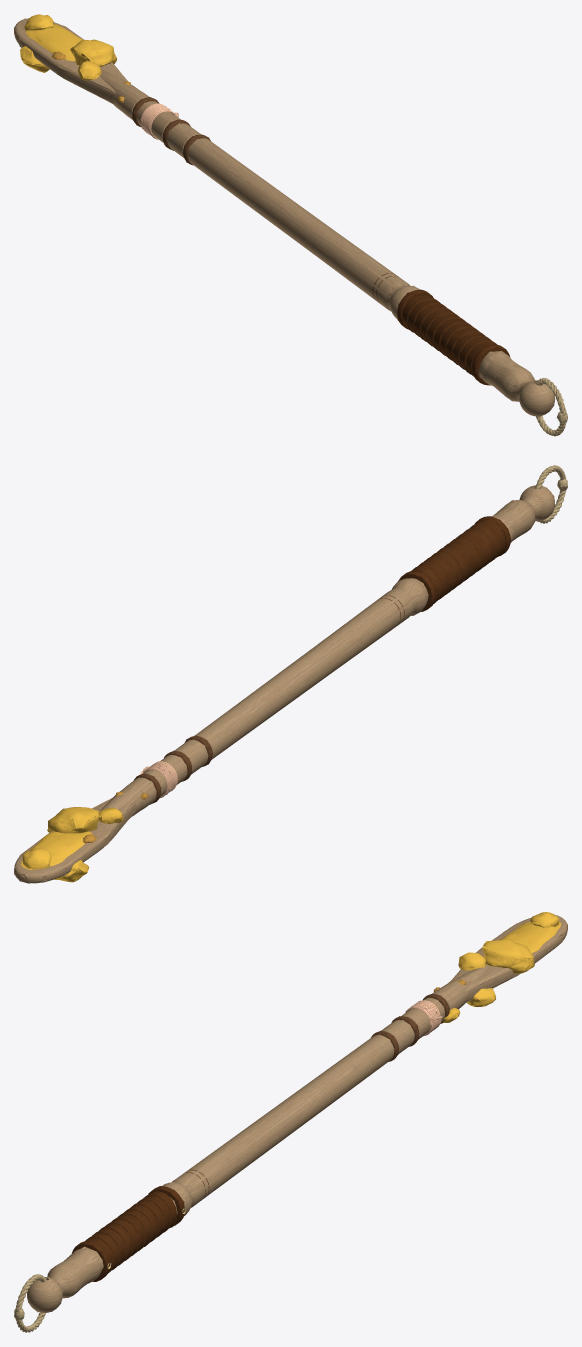
The model's file is mescul.glb.
3 renders of one model, top to bottom at view 1: azimuth 30°, elevation 25°; view 2: azimuth 150°, elevation 25°; view 3: azimuth 330°, elevation 25°, orthographic.
Parts seen in each view (by area): view 1: body, far; view 2: body, far; view 3: body, far.
Boxes of the visible parts, left/top/right/bottom form: body: left=14, top=14, right=567, bottom=435; far: left=14, top=14, right=567, bottom=436; body: left=14, top=465, right=567, bottom=883; far: left=14, top=465, right=567, bottom=883; body: left=14, top=912, right=567, bottom=1332; far: left=14, top=912, right=567, bottom=1332.
Size of the model in its own units: 0.0725 by 0.0582 by 1.06.
Materials: 8 (3 with a texture image).
